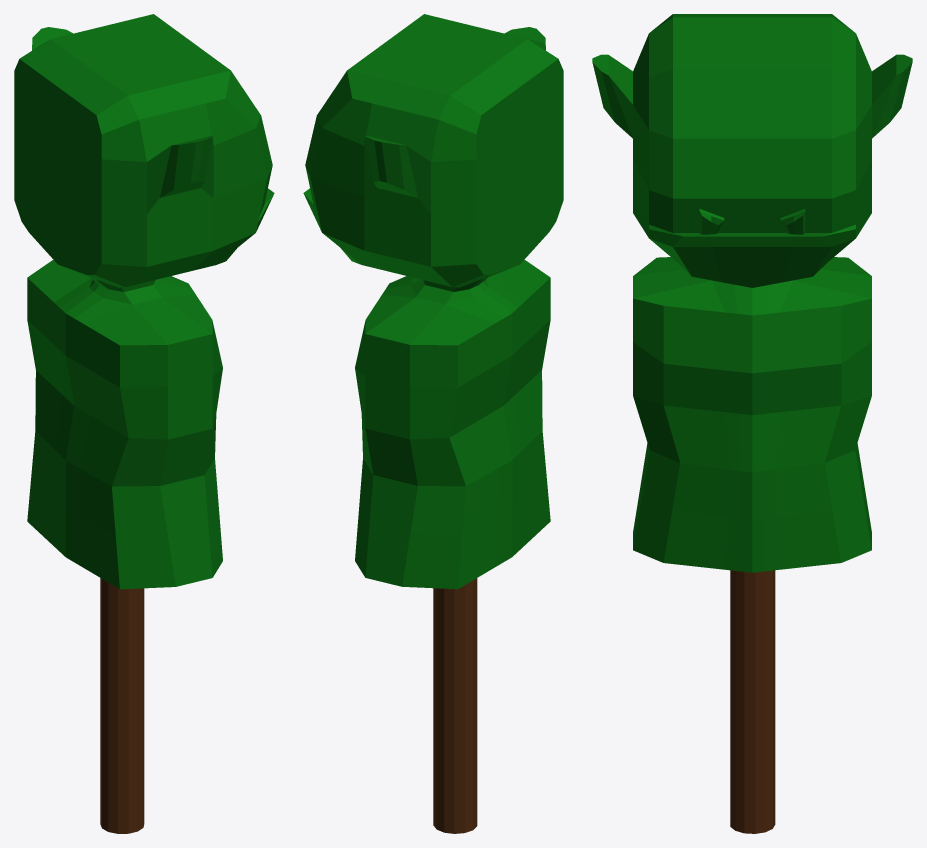
File: ZielPuppeGoboderGOBLIN.fbx
3 views of the same model, side by side, from view 1: azimuth 30°, elevation 25°; view 2: azimuth 150°, elevation 25°; view 3: azimuth 270°, elevation 25° (orthographic). The views are drawn at different scales.
Parts seen in each view (by area): view 1: ober körper; view 2: ober körper; view 3: ober körper.
Boxes of the visible parts, x1=… form: ober körper: x1=14, y1=14, x2=274, y2=833; ober körper: x1=303, y1=14, x2=563, y2=833; ober körper: x1=592, y1=14, x2=912, y2=833.
Bounding box in the file's own units: 184 × 730 × 268.
